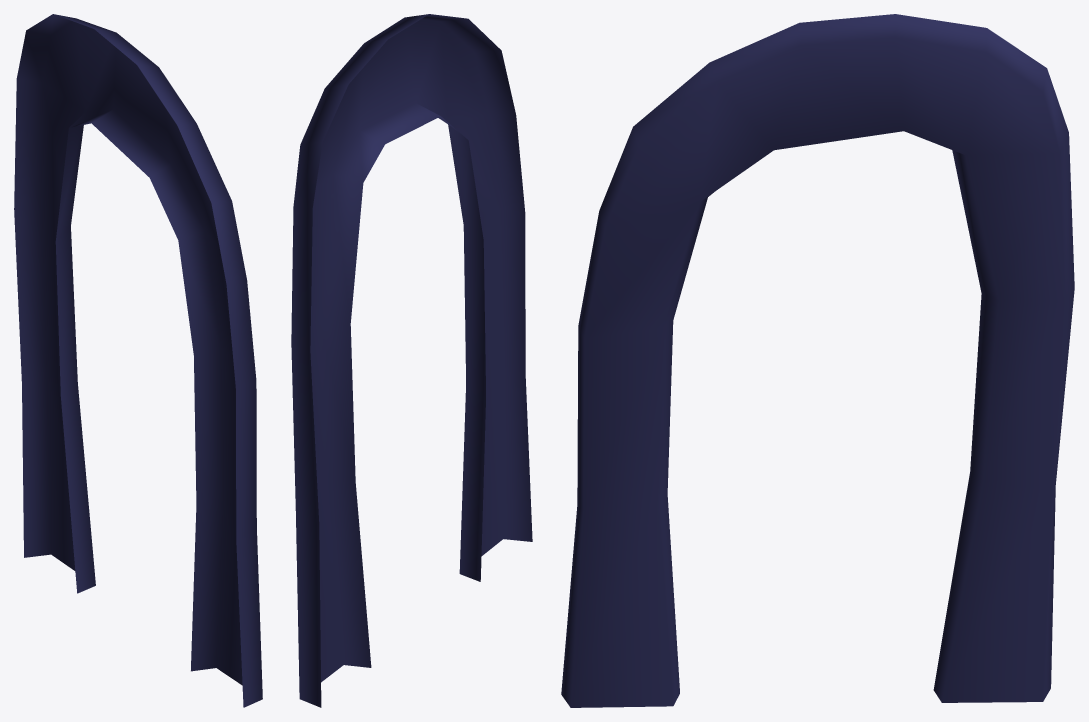
File: TherapyDoorWalkthrough.fbx
3 views of the same model, side by side, from view 1: azimuth 30°, elevation 25°; view 2: azimuth 150°, elevation 25°; view 3: azimuth 270°, elevation 25° (orthographic). The views are drawn at different scales.
Parts seen in each view (by area): view 1: pCube17; view 2: pCube17; view 3: pCube17.
Boxes of the visible parts, left/top/right/bottom form: pCube17: left=14, top=14, right=262, bottom=707; pCube17: left=291, top=14, right=532, bottom=707; pCube17: left=561, top=14, right=1074, bottom=707.
Bounding box in the file's own units: 52.02 × 835 × 574.
